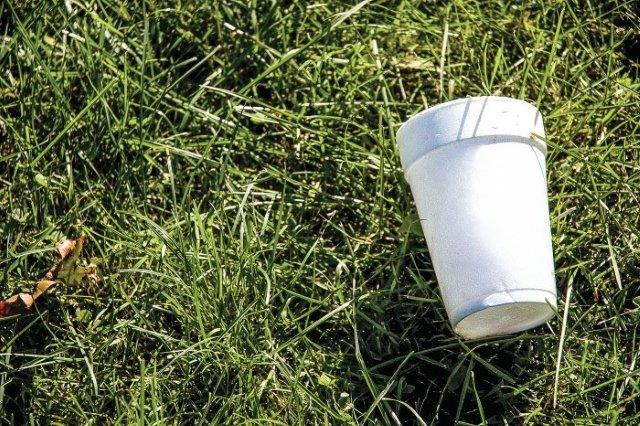sterofoam: (398, 99, 556, 335)
